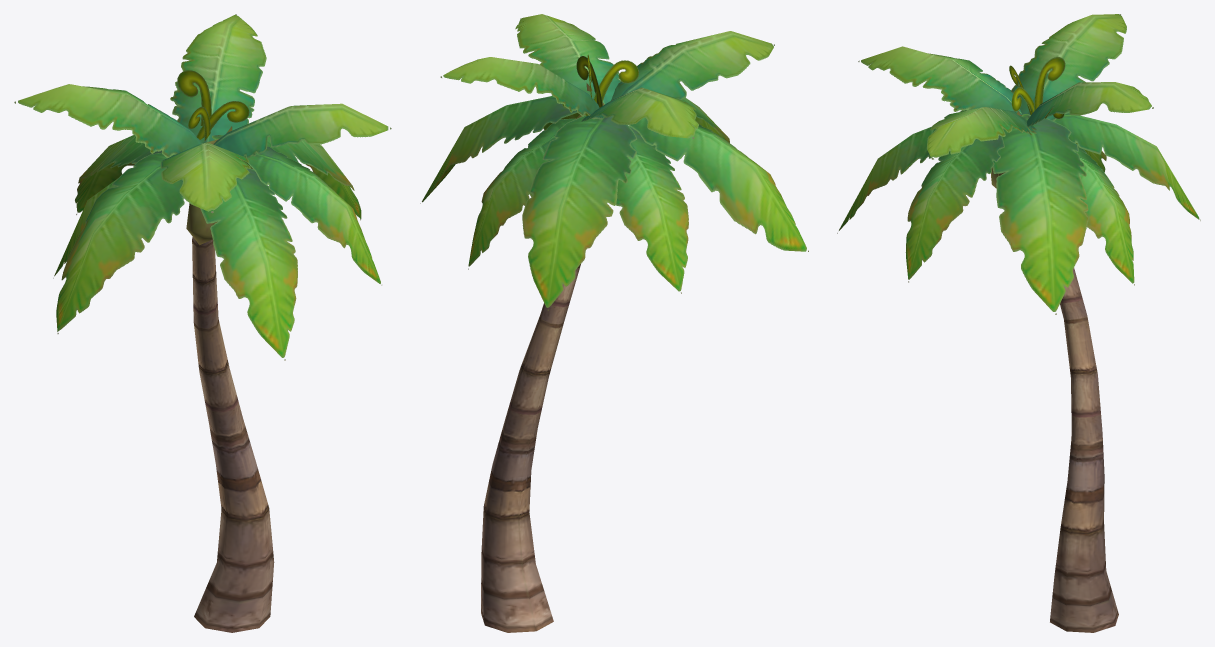
Rendered from tongyong_toutie_10_07.fbx.
The picture shows the model from 3 angles, left to right: view 1: azimuth 30°, elevation 25°; view 2: azimuth 150°, elevation 25°; view 3: azimuth 270°, elevation 25°; orthographic projection. The views are drawn at different scales.
Visible parts, largest first — view 1: tongyong_toutie_10_07; view 2: tongyong_toutie_10_07; view 3: tongyong_toutie_10_07.
Part boxes in pixels (left/top/right/bottom): tongyong_toutie_10_07: left=14, top=14, right=391, bottom=632; tongyong_toutie_10_07: left=420, top=14, right=808, bottom=632; tongyong_toutie_10_07: left=837, top=14, right=1200, bottom=632.
Bounding box in the file's own units: 740 × 1177 × 714.
